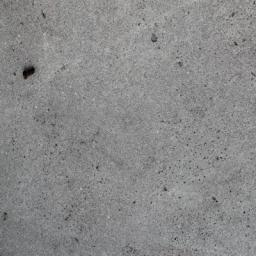FOD: (20, 65, 40, 82)
